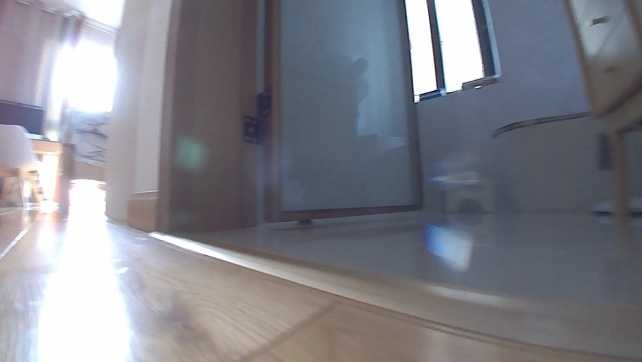door_anno: (162, 0, 424, 227)
door_sill: (153, 231, 641, 361)
toilet: (493, 95, 640, 219)
